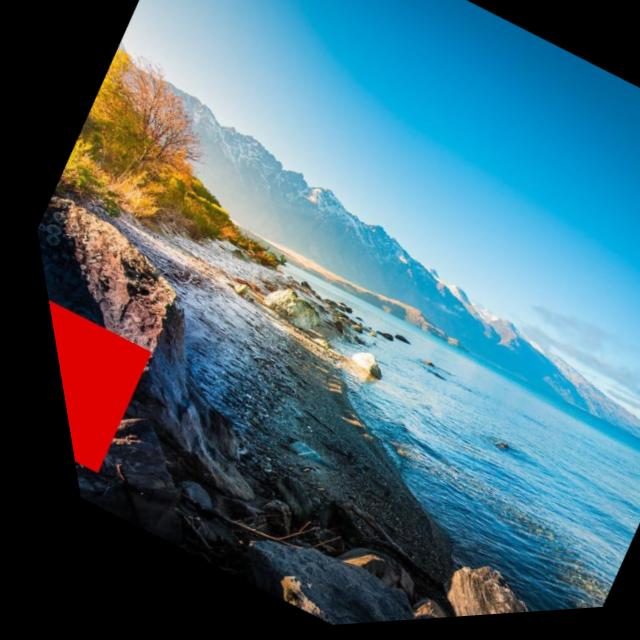RedSquare: (36, 275, 160, 479)
